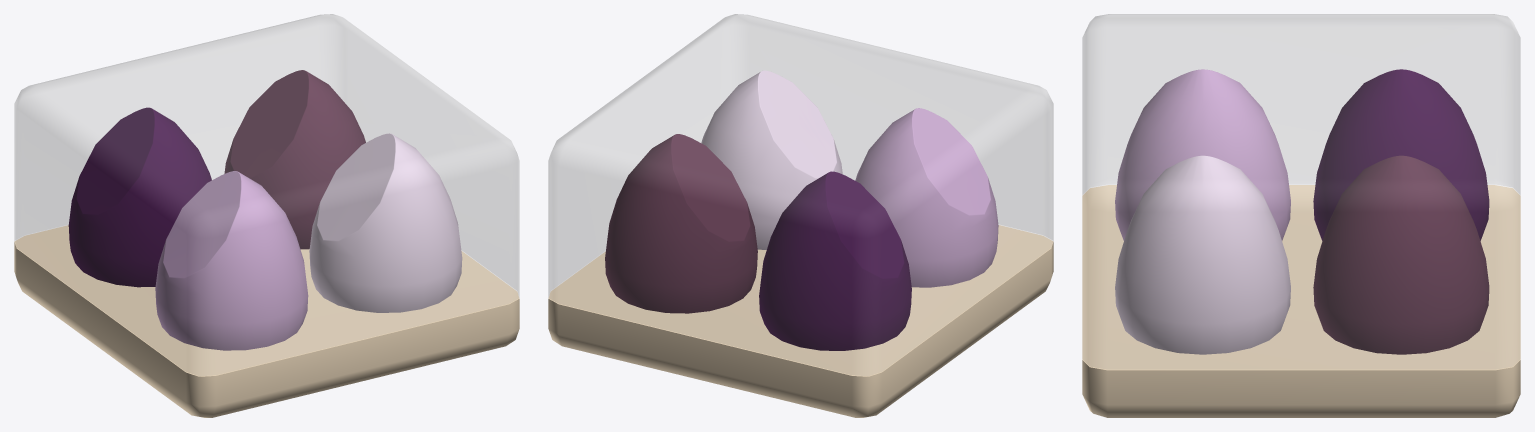
Rendered from Blenders 1.fbx.
3 renders of one model, left to right at view 1: azimuth 30°, elevation 25°; view 2: azimuth 150°, elevation 25°; view 3: azimuth 270°, elevation 25°, orthographic. The views are drawn at different scales.
Visible parts, largest first — view 1: polySurface200; view 2: polySurface200; view 3: polySurface200.
Boxes of the visible parts, x1,y1,x2,y2 form: polySurface200: (14, 14, 519, 417); polySurface200: (548, 14, 1053, 417); polySurface200: (1082, 14, 1520, 417).
Size of the model in its own units: 0.4562 by 0.2738 by 0.4562.
Materials: 2 (1 with a texture image).
